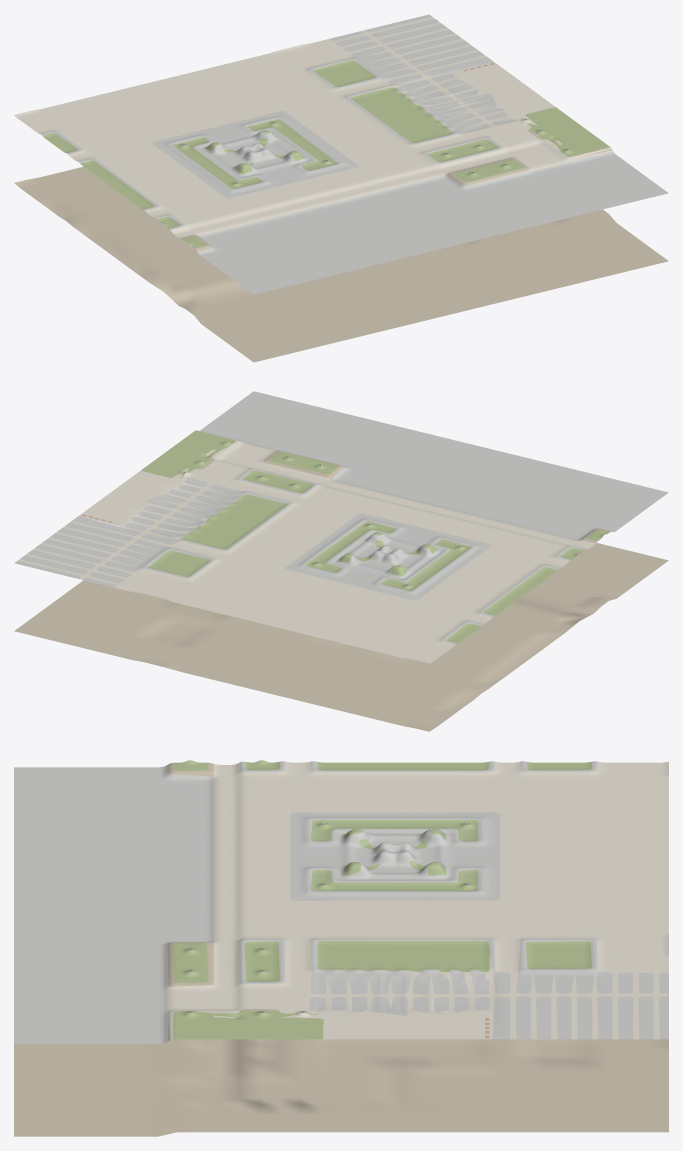
3 views of the same model, one above another, from view 1: azimuth 30°, elevation 25°; view 2: azimuth 150°, elevation 25°; view 3: azimuth 270°, elevation 25° (orthographic). The views are drawn at different scales.
Visible parts, largest first — view 1: s_-1_3__stone_paving, s_-1_3__paving, s_-1_3__soil, s_-1_3__grass; view 2: s_-1_3__stone_paving, s_-1_3__paving, s_-1_3__soil, s_-1_3__grass; view 3: s_-1_3__stone_paving, s_-1_3__paving, s_-1_3__soil, s_-1_3__grass.
Part boxes in pixels (left/top/right/bottom): s_-1_3__stone_paving: left=40, top=14, right=668, bottom=294; s_-1_3__paving: left=14, top=17, right=612, bottom=238; s_-1_3__soil: left=14, top=129, right=668, bottom=362; s_-1_3__grass: left=42, top=60, right=610, bottom=248; s_-1_3__stone_paving: left=14, top=391, right=668, bottom=644; s_-1_3__paving: left=17, top=430, right=595, bottom=663; s_-1_3__soil: left=14, top=450, right=668, bottom=731; s_-1_3__grass: left=141, top=430, right=609, bottom=642; s_-1_3__stone_paving: left=14, top=761, right=668, bottom=1043; s_-1_3__paving: left=166, top=761, right=668, bottom=1041; s_-1_3__soil: left=14, top=762, right=668, bottom=1136; s_-1_3__grass: left=172, top=760, right=591, bottom=1039.
Bounding box in the file's own units: 128 × 23 × 128.
